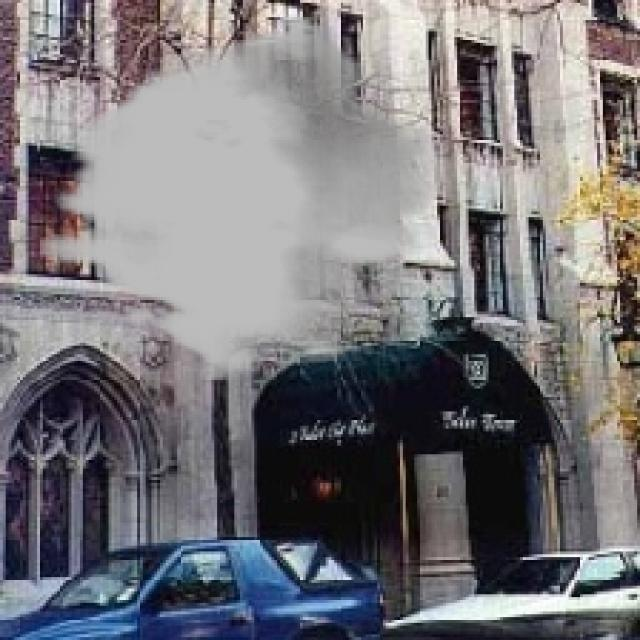Smoke: (40, 14, 440, 383)
